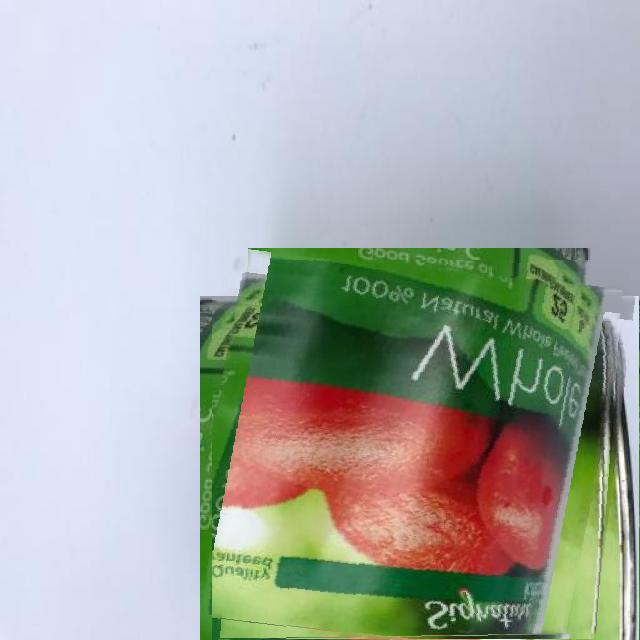recyclable: (212, 260, 625, 640)
